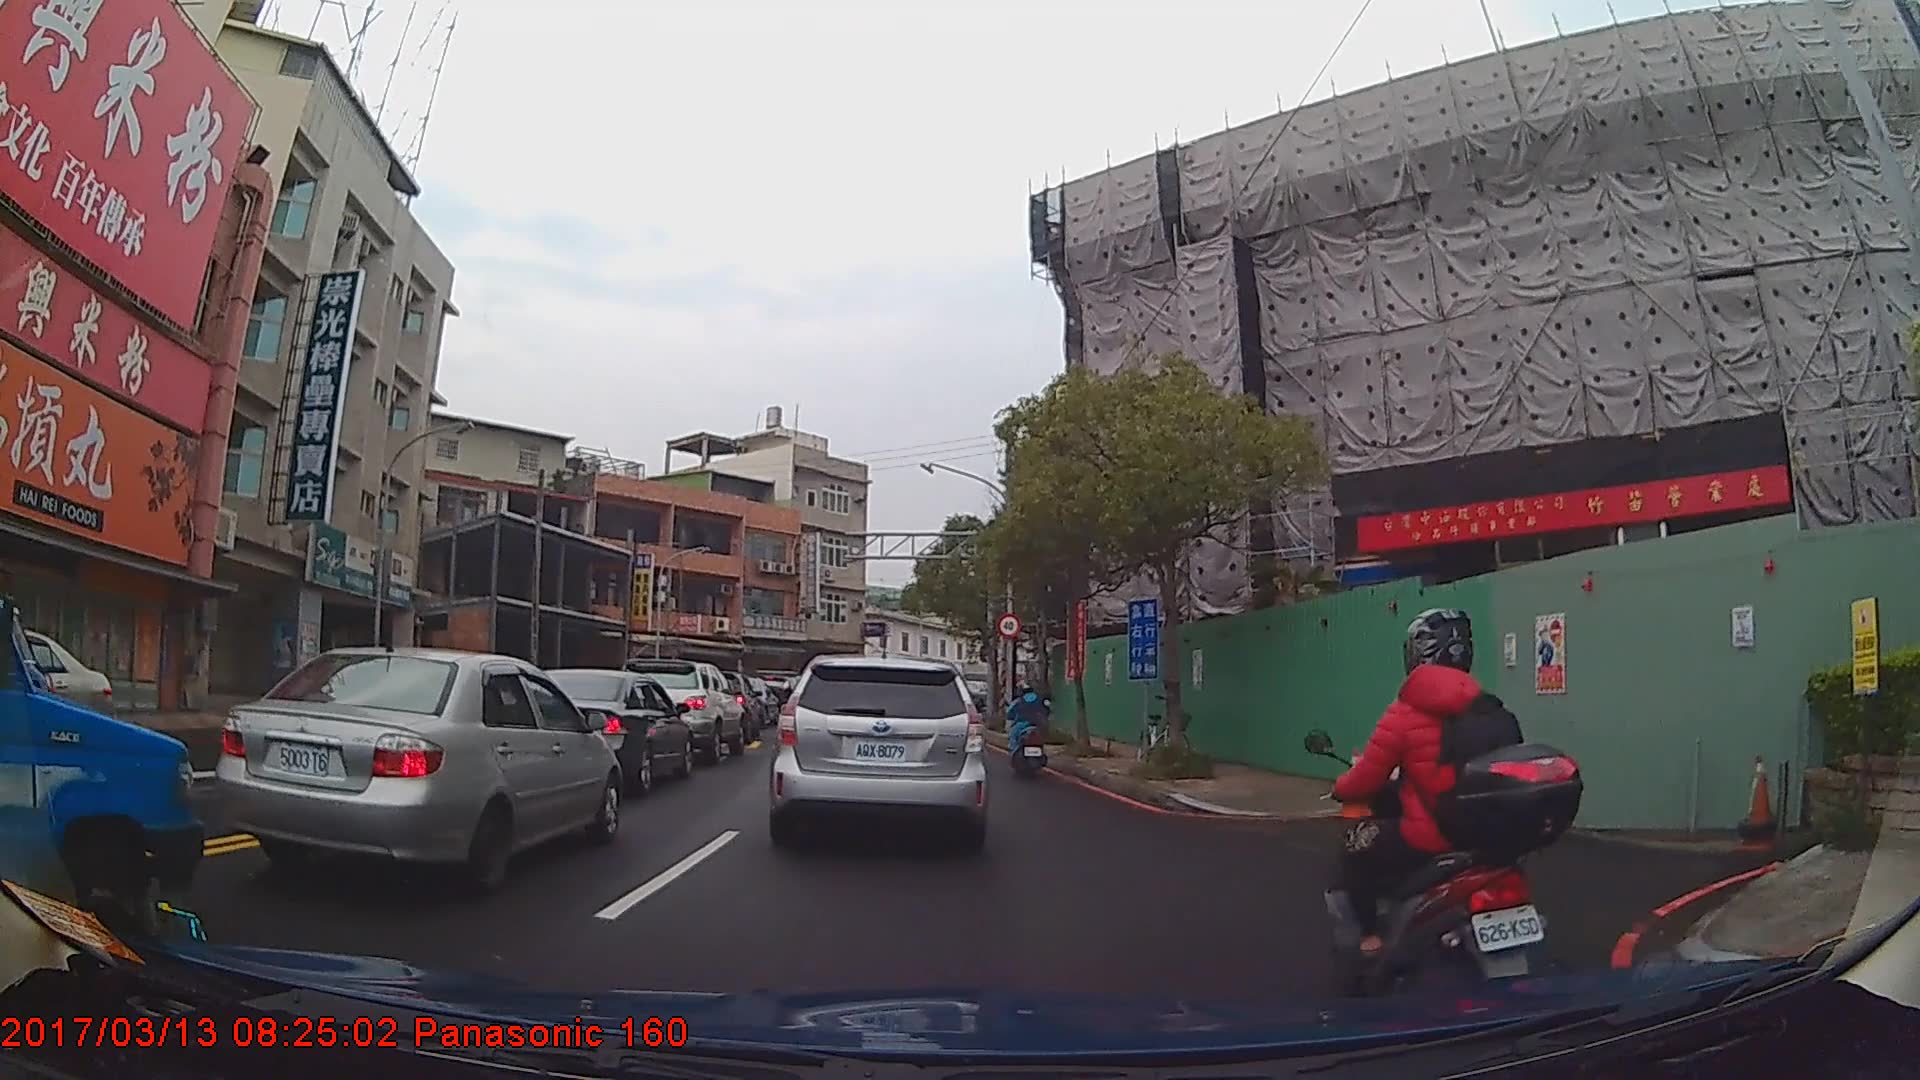rider: (1311, 602, 1581, 1036), (1001, 679, 1050, 778)
vehicle: (210, 645, 625, 896), (0, 584, 203, 954), (769, 654, 986, 851), (531, 667, 695, 793), (615, 656, 746, 764)
